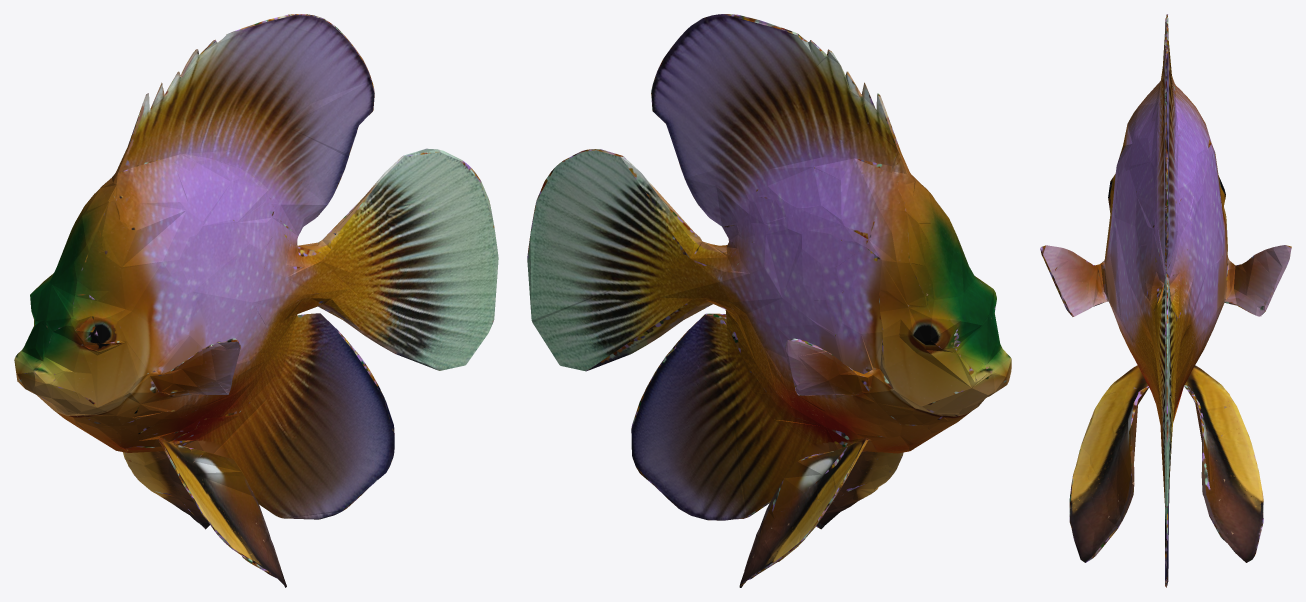
The model's file is fish_0010_smpl23_resized.glb.
3 renders of one model, left to right at view 1: azimuth 30°, elevation 25°; view 2: azimuth 150°, elevation 25°; view 3: azimuth 270°, elevation 25°, orthographic.
Parts seen in each view (by area): view 1: world; view 2: world; view 3: world.
Boxes of the visible parts, x1=… form: world: x1=14, y1=14, x2=498, y2=587; world: x1=527, y1=14, x2=1011, y2=587; world: x1=1040, y1=14, x2=1291, y2=587.
Bounding box in the file's own units: 1.88 × 1.99 × 0.8437.
1 material, 1 textured.
